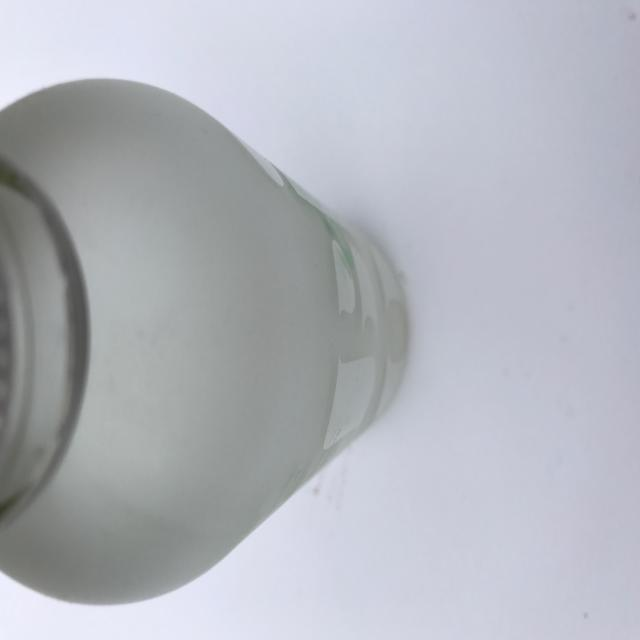glass: (0, 76, 411, 606)
